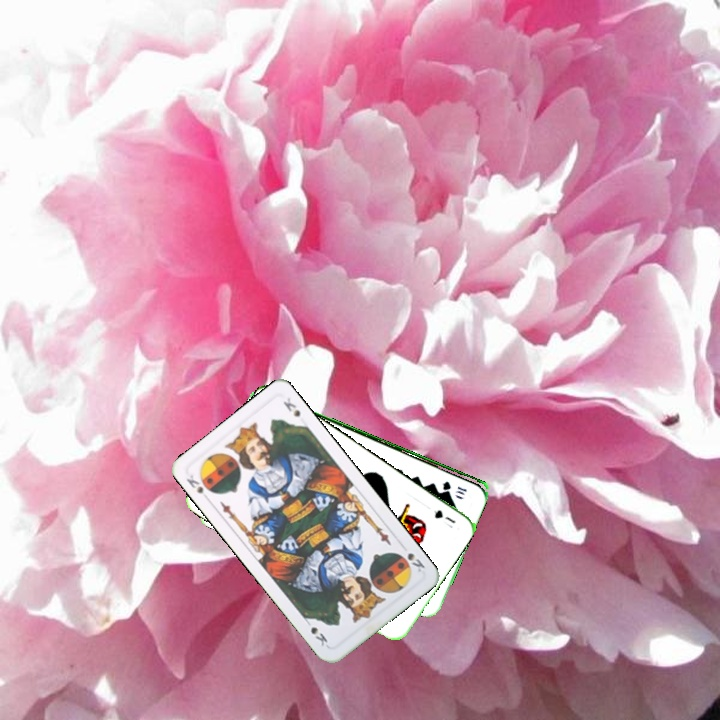G10: (439, 477, 469, 498)
GU: (430, 505, 458, 531)
SK: (182, 471, 213, 504), (394, 549, 428, 575)
